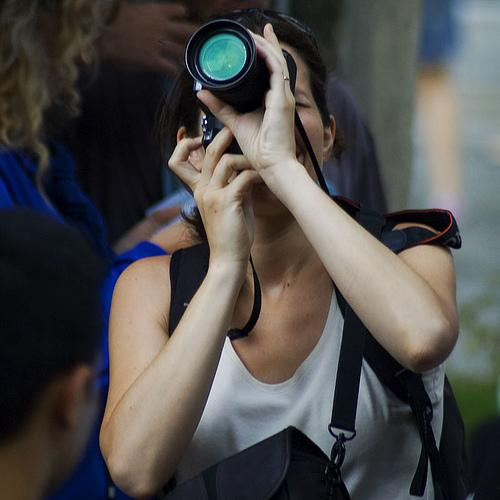person: (98, 14, 461, 495)
